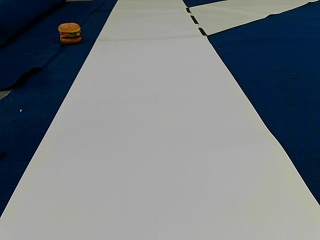burger: (57, 20, 81, 43)
